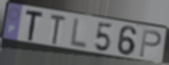5: (93, 21, 115, 53)
6: (115, 25, 139, 57)
L: (68, 17, 89, 51)
P: (138, 28, 163, 59)
T: (24, 10, 45, 43), (49, 13, 68, 46)
